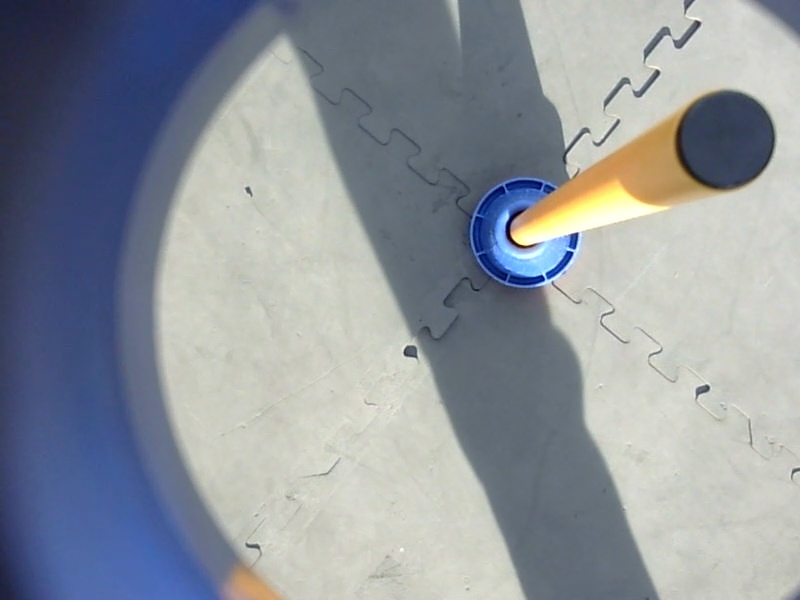tip: (667, 85, 785, 200)
